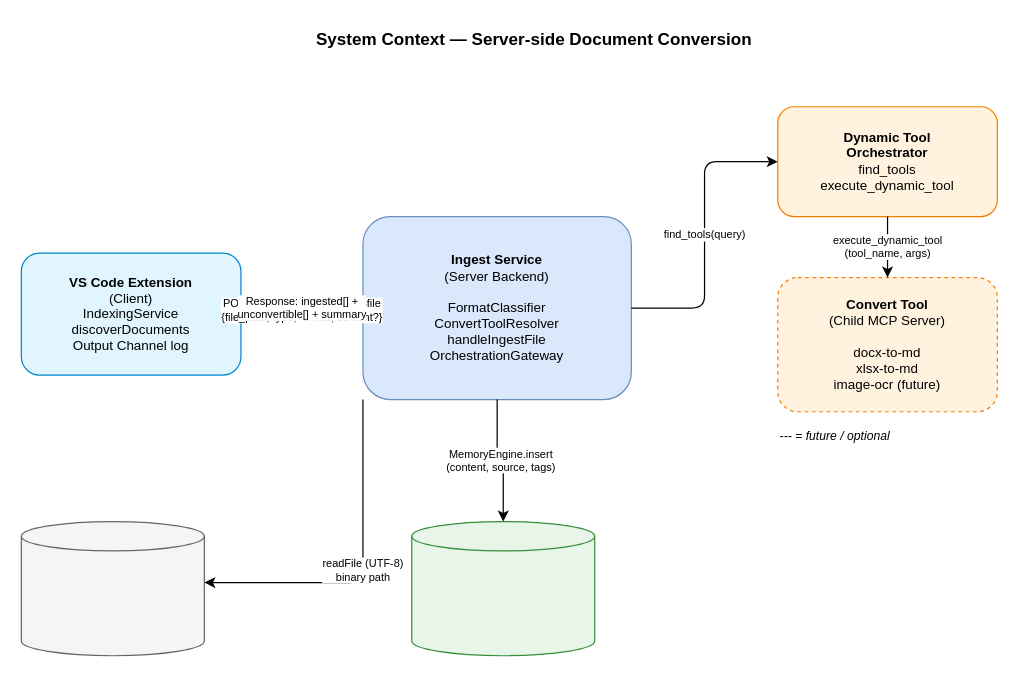
This 1019x677 diagram has some shape labels left out. Each missing label, with the centre of its shape:
File System (Workspace) .md, .txt, .docx .png, .pdf, ...: point (112, 588)
Knowledge Base (SQLite) Semantic search mem_ingest entries: point (503, 588)
